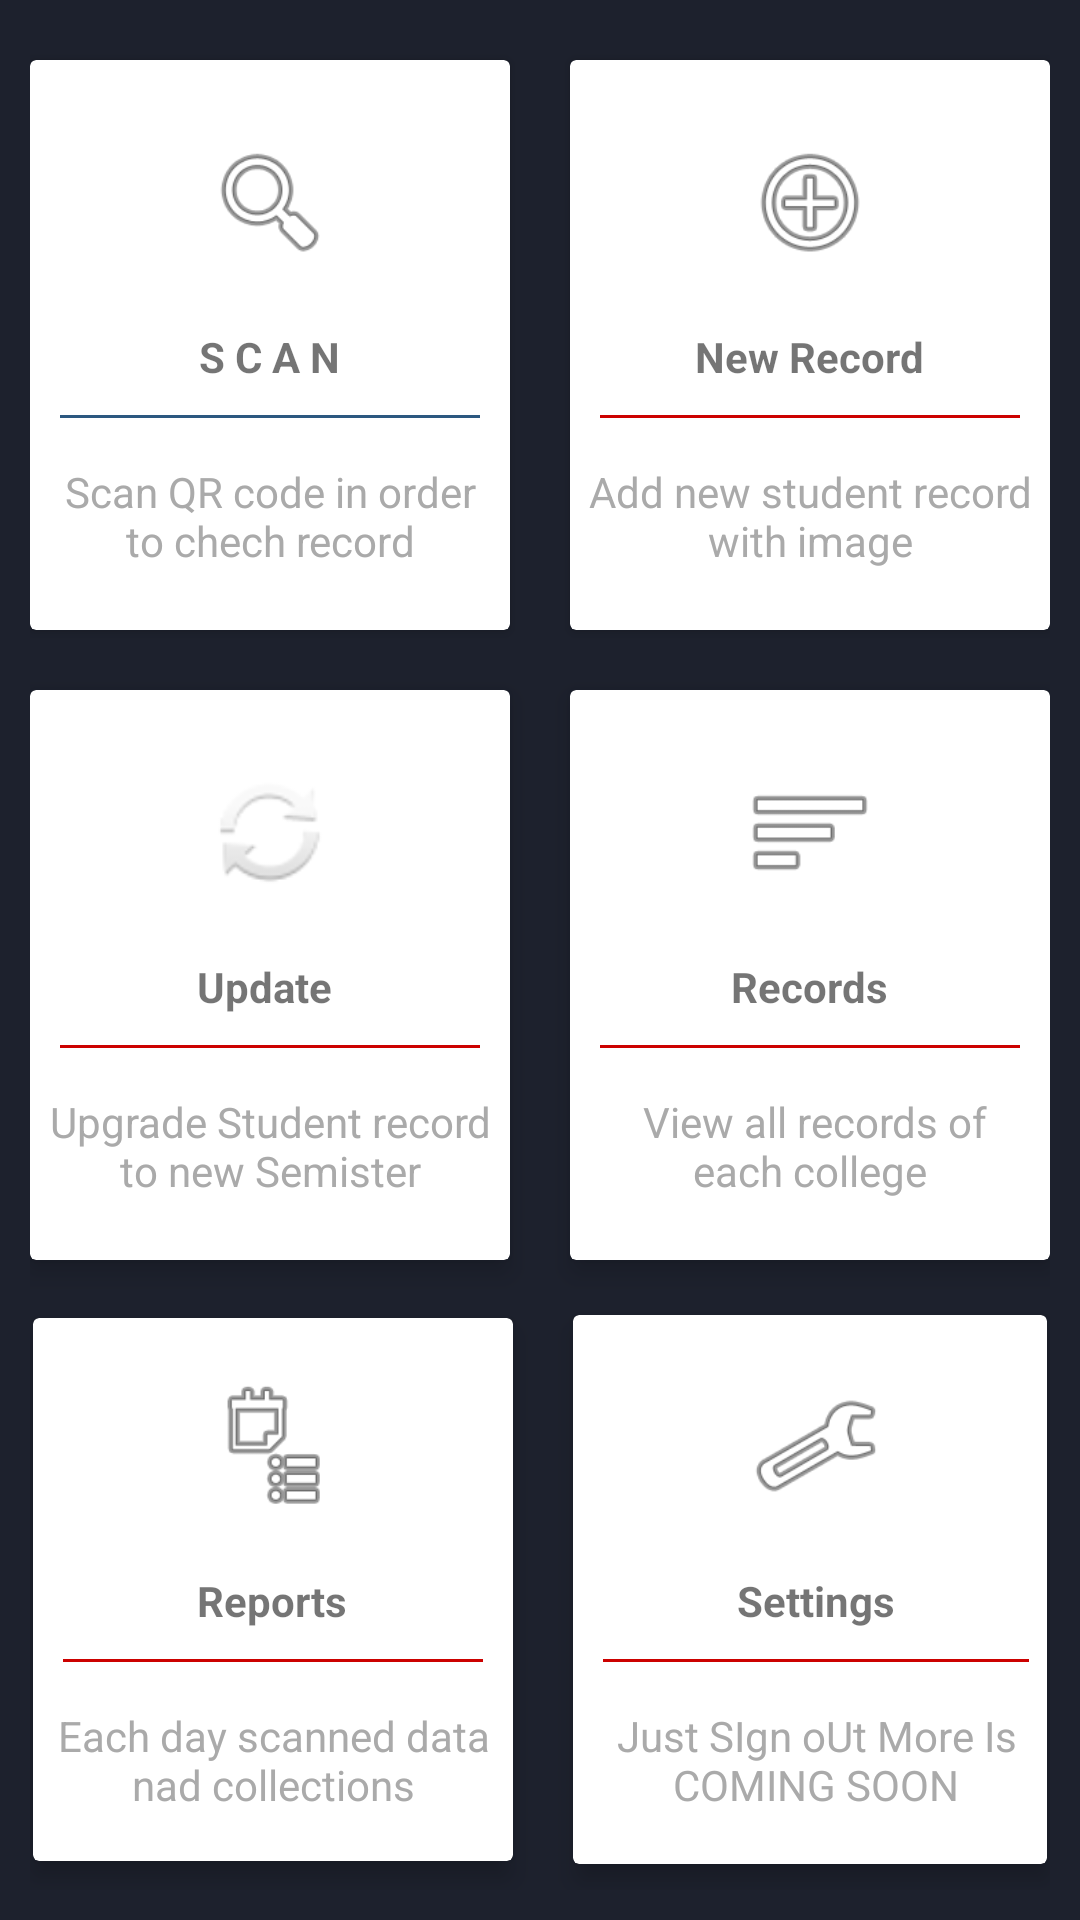

Named icons in this screenshot (1080px×1920px) and their centers, [x,y]:
agenda: [273,1445]
manage: [816,1446]
popup sync: [269,837]
search: [270,203]
sort by size: [810,833]
